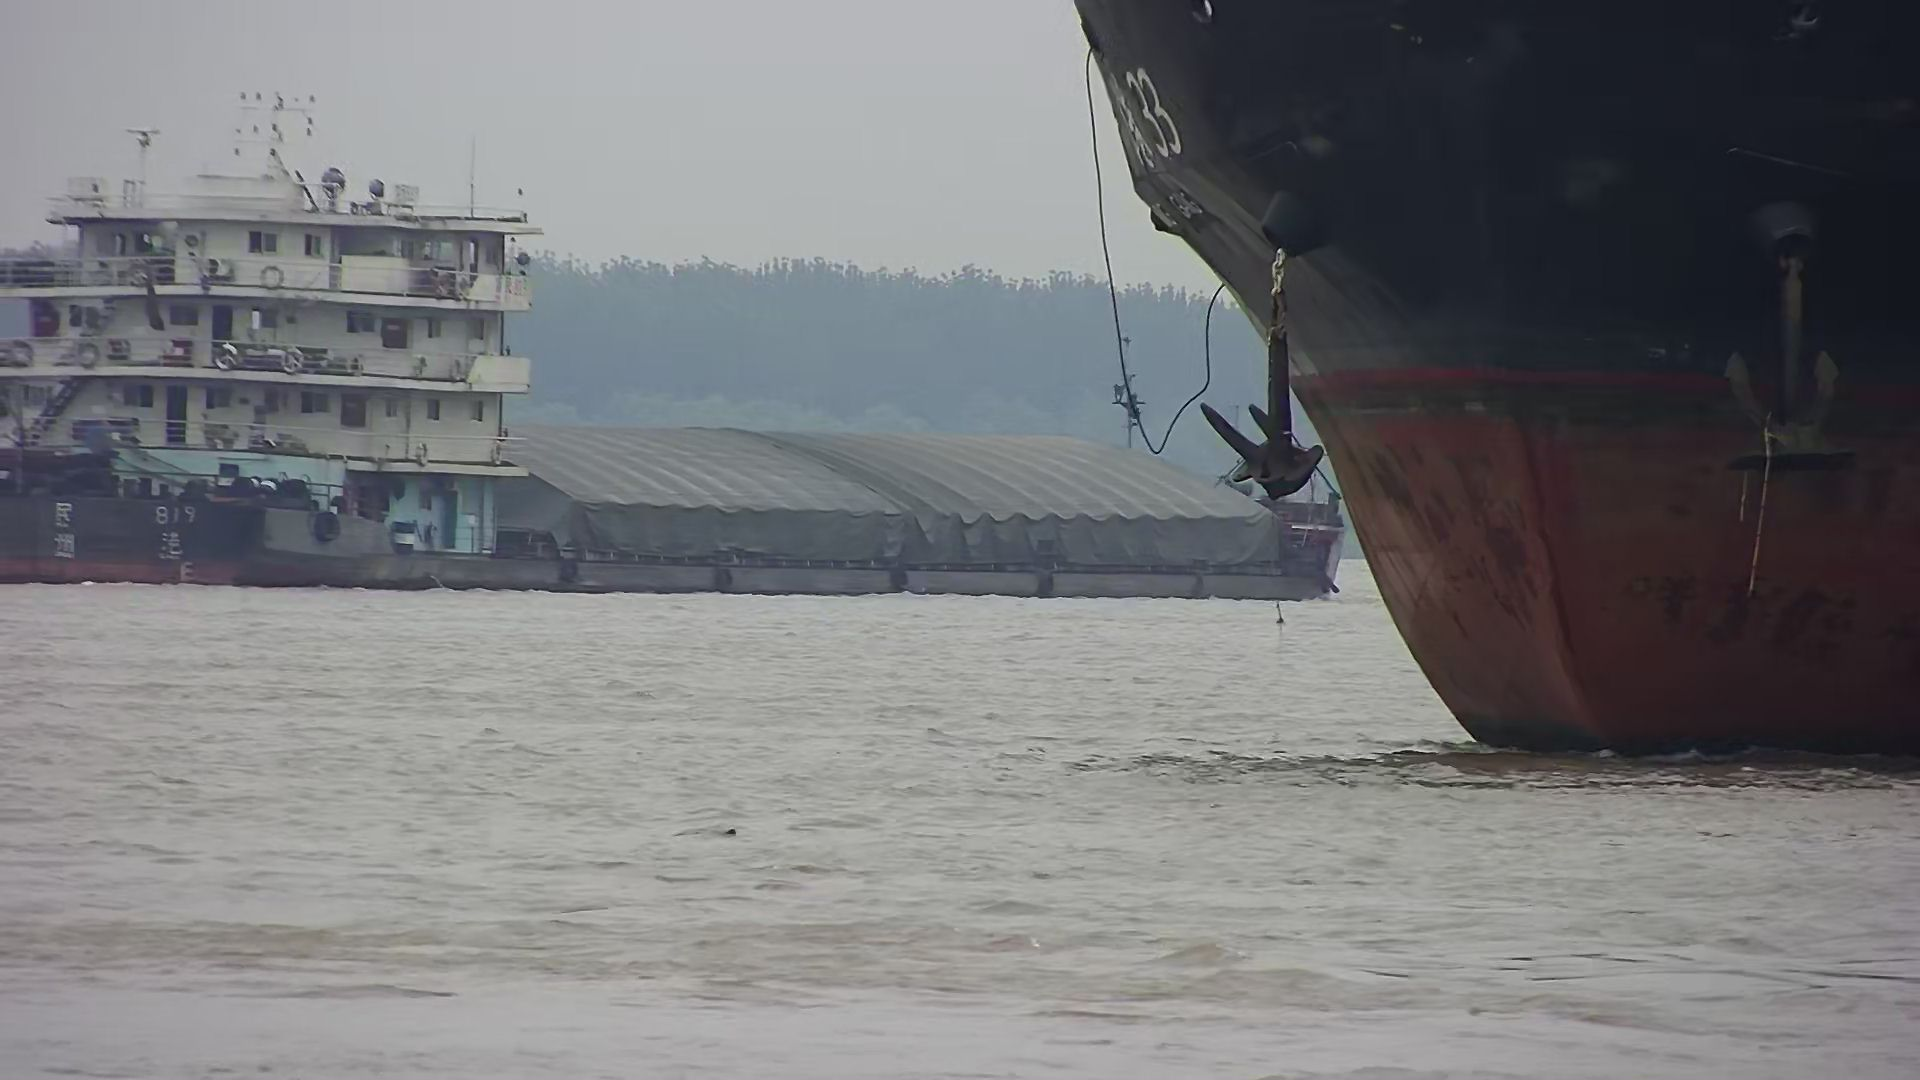ship: (1, 76, 1342, 607), (1073, 1, 1920, 766)
